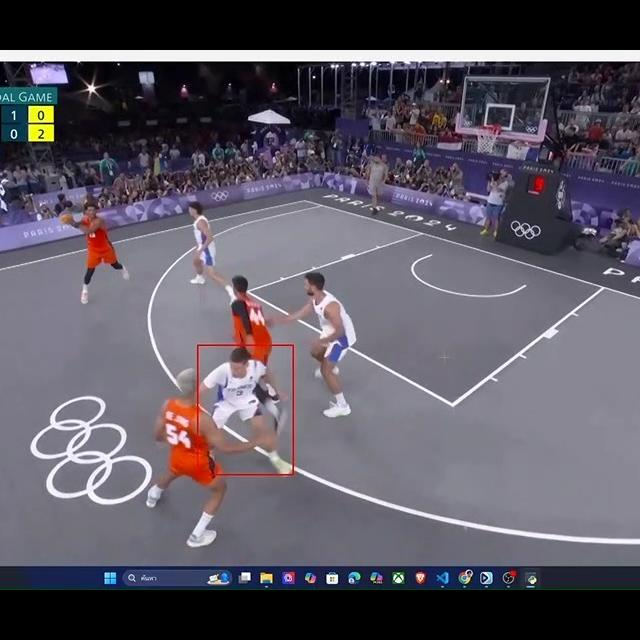basketball: (58, 212, 77, 225)
hoop: (473, 125, 500, 153)
